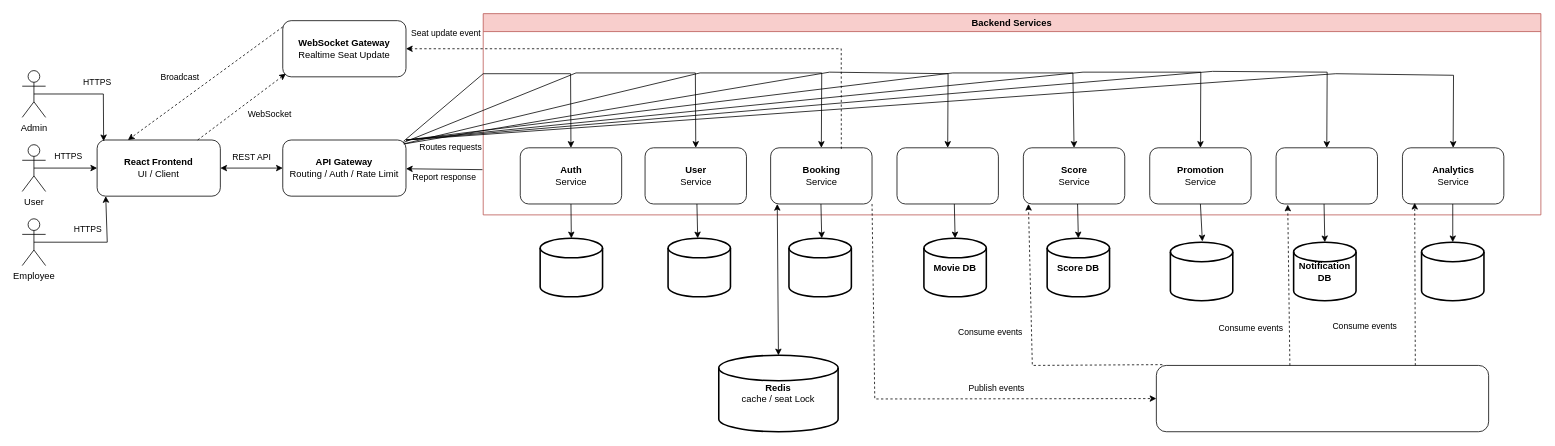
This 1555x446 diagram has some shape labels left out. Each missing label, with the centre of its shape:
"Analytics DB" belongs at (x=1452, y=271).
"Auth DB" belongs at (x=571, y=267).
"Booking DB" belongs at (x=820, y=267).
"Kafka Async Event Bus" belongs at (x=1322, y=398).
"Movie Service" belongs at (x=947, y=175).
"Notification Service" belongs at (x=1326, y=175).
"Promotion DB" belongs at (x=1201, y=271).
"User DB" belongs at (x=699, y=267).
